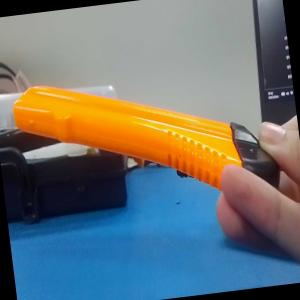estilete: (11, 57, 282, 220)
